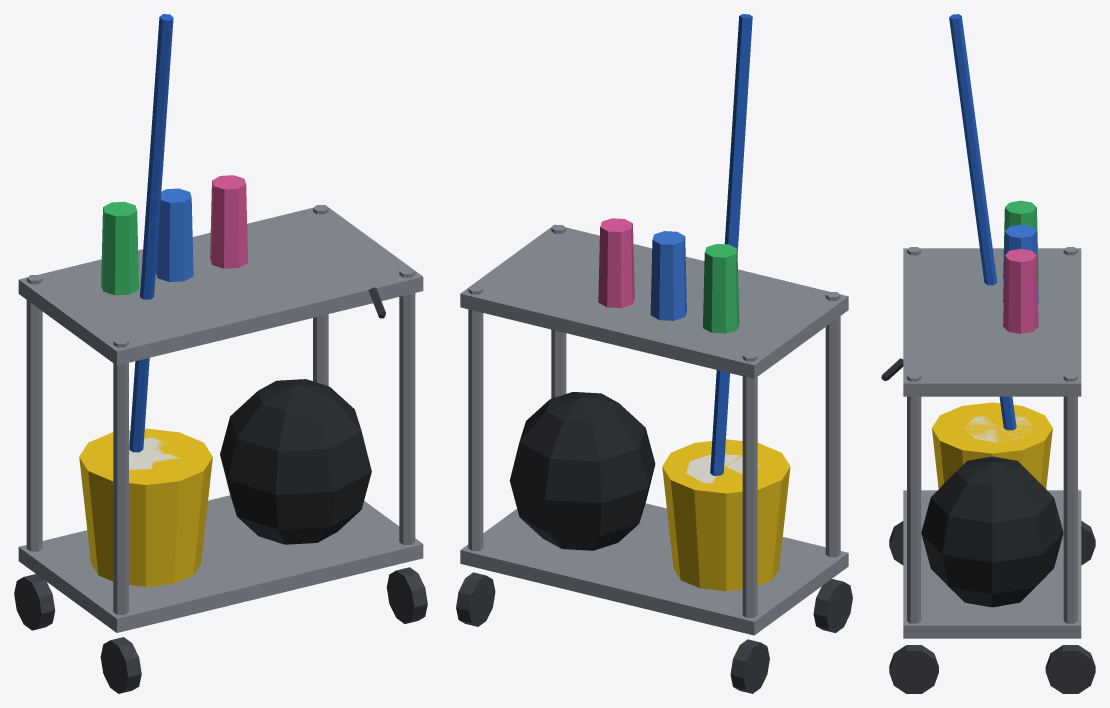
The model's file is cleaning_cart.glb.
The picture shows the model from 3 angles, left to right: view 1: azimuth 30°, elevation 25°; view 2: azimuth 150°, elevation 25°; view 3: azimuth 270°, elevation 25°; orthographic projection. The views are drawn at different scales.
Parts seen in each view (by area): view 1: frame_cart_grey, bag_trash_bag, bucket_bucket_yellow, mop_mop_handle, wheels_cart_dark, bottles_bottle_pink, bottles_bottle_green, bottles_bottle_blue, mop_mop_head; view 2: frame_cart_grey, bag_trash_bag, bucket_bucket_yellow, wheels_cart_dark, mop_mop_handle, bottles_bottle_pink, bottles_bottle_blue, bottles_bottle_green, mop_mop_head; view 3: frame_cart_grey, bag_trash_bag, bucket_bucket_yellow, wheels_cart_dark, mop_mop_handle, bottles_bottle_pink, bottles_bottle_blue, bottles_bottle_green, mop_mop_head.
Part boxes in pixels (x1,y1,x2,y2): frame_cart_grey: [18, 205, 423, 632]; bag_trash_bag: [220, 379, 371, 544]; bucket_bucket_yellow: [79, 428, 212, 586]; mop_mop_handle: [129, 14, 173, 452]; wheels_cart_dark: [14, 567, 427, 693]; bottles_bottle_pink: [210, 175, 247, 268]; bottles_bottle_green: [101, 201, 138, 295]; bottles_bottle_blue: [155, 188, 193, 281]; mop_mop_head: [129, 438, 179, 469]; frame_cart_grey: [460, 224, 848, 635]; bag_trash_bag: [509, 392, 655, 550]; bucket_bucket_yellow: [662, 439, 790, 591]; wheels_cart_dark: [456, 572, 852, 693]; mop_mop_handle: [710, 14, 752, 475]; bottles_bottle_pink: [598, 218, 634, 307]; bottles_bottle_blue: [650, 231, 686, 320]; bottles_bottle_green: [703, 244, 739, 333]; mop_mop_head: [686, 454, 758, 483]; frame_cart_grey: [903, 247, 1081, 638]; bag_trash_bag: [921, 456, 1063, 607]; bucket_bucket_yellow: [932, 402, 1052, 488]; wheels_cart_dark: [889, 521, 1095, 693]; mop_mop_handle: [949, 14, 1016, 430]; bottles_bottle_pink: [1003, 248, 1038, 333]; bottles_bottle_blue: [1003, 224, 1038, 302]; bottles_bottle_green: [1003, 200, 1038, 278]; mop_mop_head: [964, 416, 1034, 442].
Bounding box in the file's own units: 0.9 × 1.79 × 0.602.
